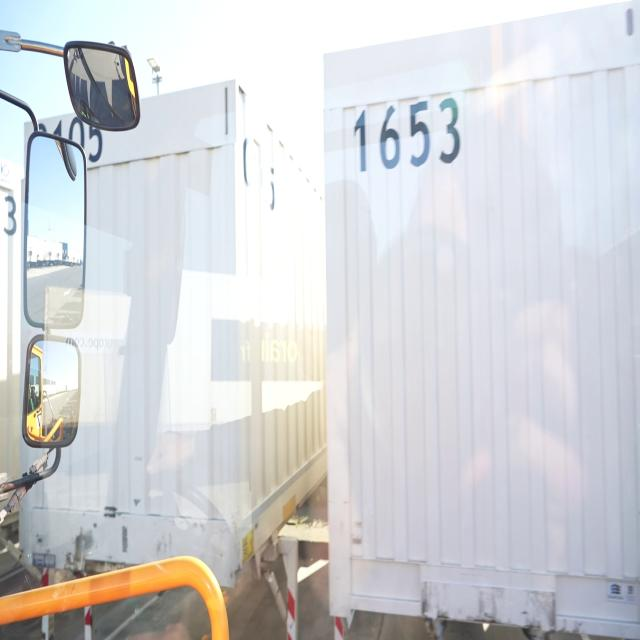Code: (350, 86, 468, 180)
